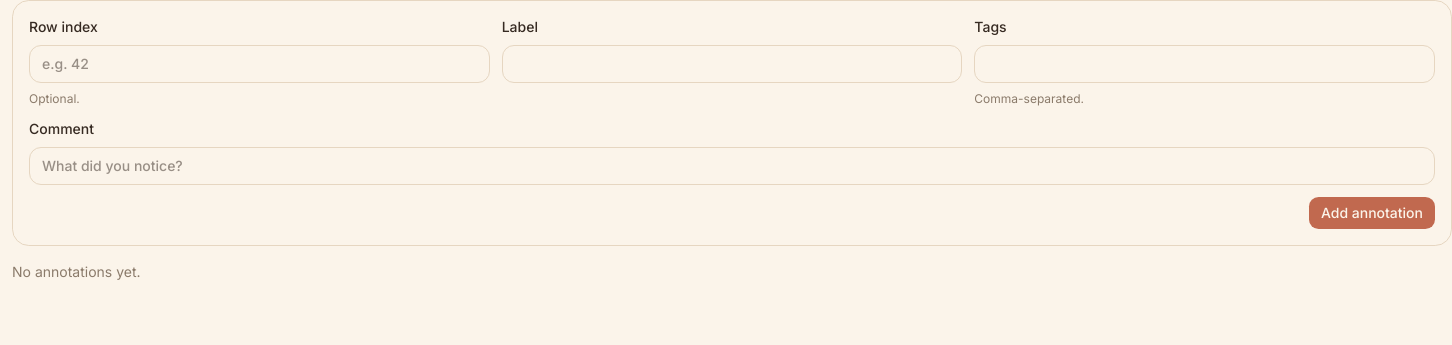
Scenario: AnnotationsPanel › adds an annotation and lists it
Expected: the button "Add annotation" is shown, [1309, 197, 1435, 229]
Type "outlier" into the field labelled "Label".
click(732, 64); type("outlier")  # box [502, 45, 962, 83]
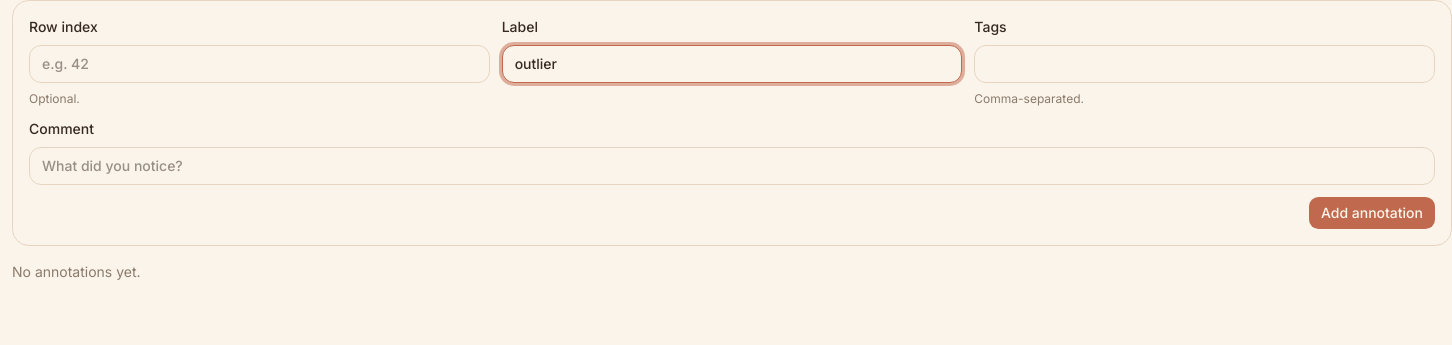
Click the button "Add annotation".
click(1372, 213)  # box [1309, 197, 1435, 229]
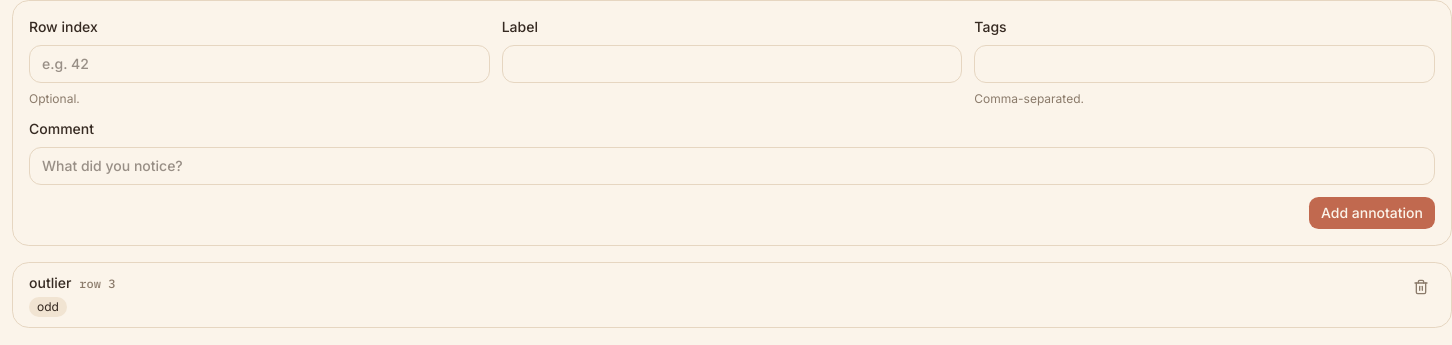
Expected: the list named "annotations" shows "outlier", [29, 274, 71, 291]
